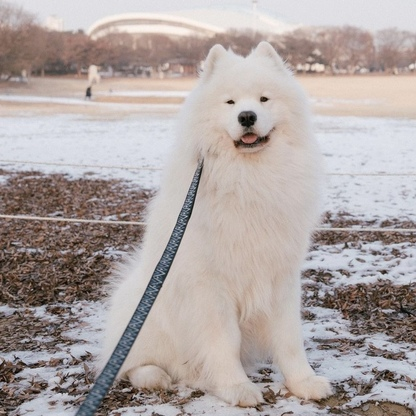samoyed: (80, 28, 348, 416)
